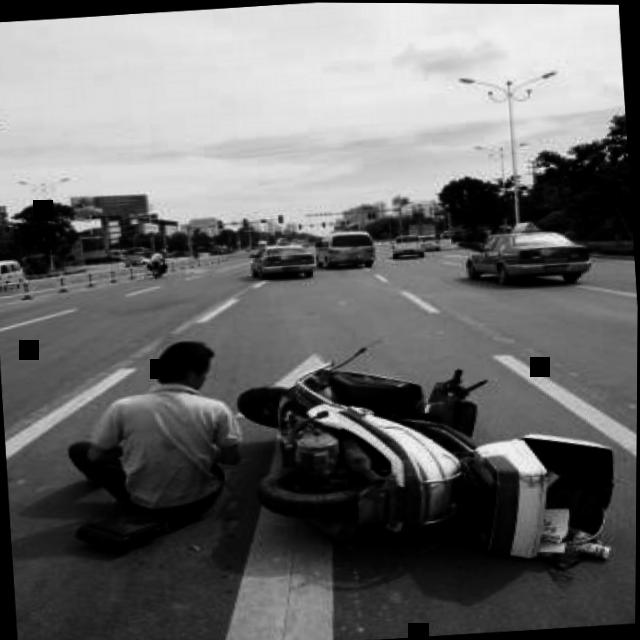Fall-Detected: (48, 326, 251, 540)
